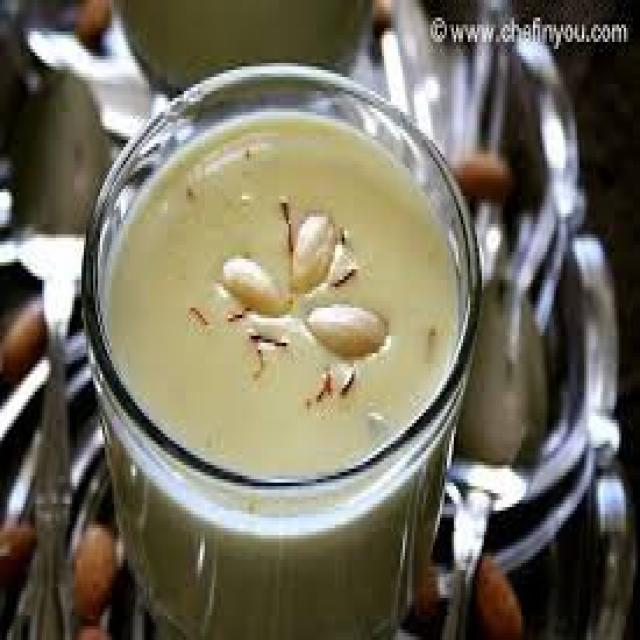Kheer: (111, 127, 456, 496)
